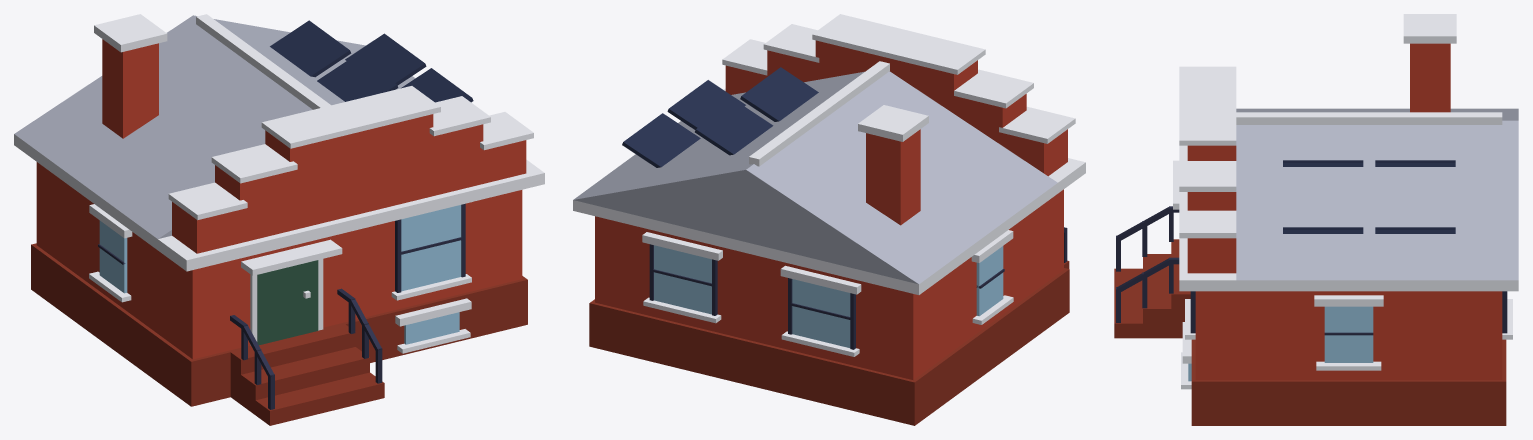
Rendered from house-1x1-1f-dutch-a-solar.glb.
3 renders of one model, left to right at view 1: azimuth 30°, elevation 25°; view 2: azimuth 150°, elevation 25°; view 3: azimuth 270°, elevation 25°, orthographic. The views are drawn at different scales.
Visible parts, largest first — view 1: house-1x1-1f-dutch-a-solar; view 2: house-1x1-1f-dutch-a-solar; view 3: house-1x1-1f-dutch-a-solar.
Boxes of the visible parts, left/top/right/bottom form: house-1x1-1f-dutch-a-solar: left=14, top=14, right=544, bottom=425; house-1x1-1f-dutch-a-solar: left=573, top=14, right=1085, bottom=425; house-1x1-1f-dutch-a-solar: left=1114, top=14, right=1518, bottom=425.
Bounding box in the file's own units: 1 × 0.73 × 0.995.
Materials: 1 (1 with a texture image).
